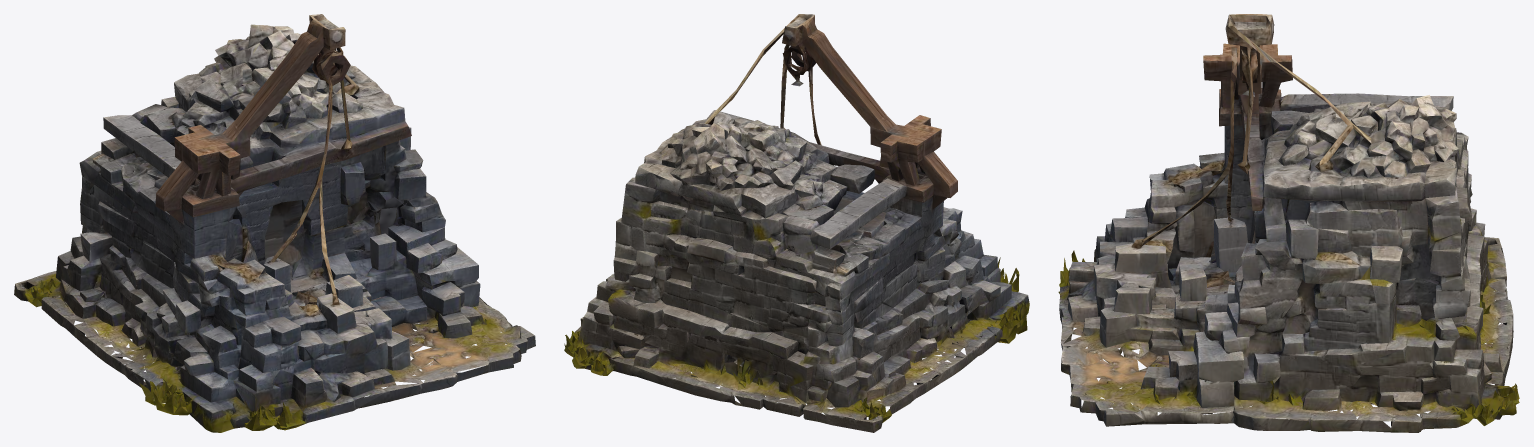
Rendered from quarry.glb.
3 renders of one model, left to right at view 1: azimuth 30°, elevation 25°; view 2: azimuth 150°, elevation 25°; view 3: azimuth 270°, elevation 25°, orthographic. The views are drawn at different scales.
Parts seen in each view (by area): view 1: quarry; view 2: quarry; view 3: quarry.
Part boxes in pixels (x1,y1,x2,y2): quarry: [14, 14, 535, 432]; quarry: [564, 14, 1029, 432]; quarry: [1058, 14, 1519, 432].
Bounding box in the file's own units: 1.3 × 1.09 × 1.33.
1 material, 1 textured.
